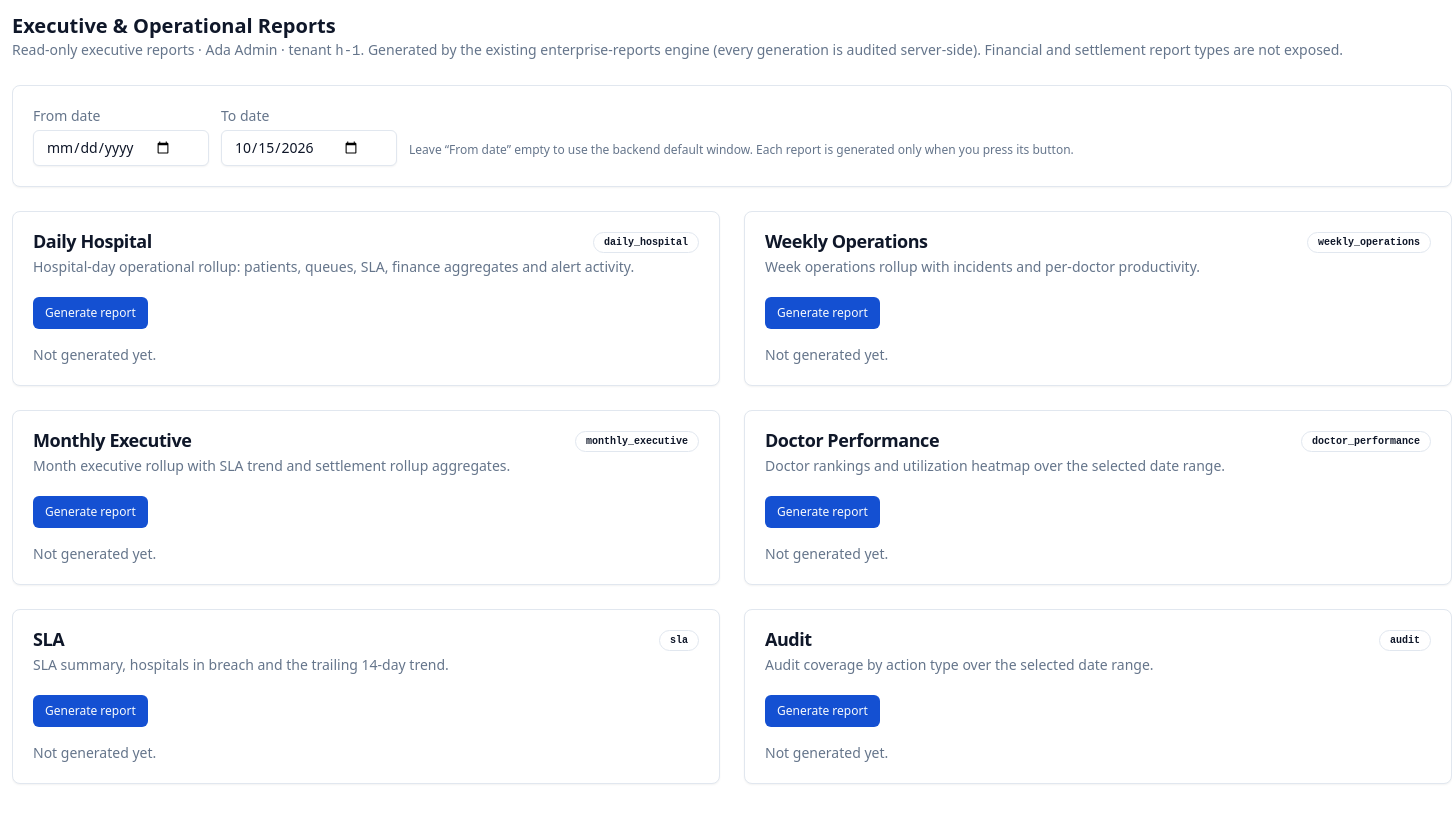
Test: AdminReports viewer › shows an honest error for one report while the page and others stay usable
Click the button "Generate report" below "Daily Hospital". click: (90,313)
box: [33,297,148,329]
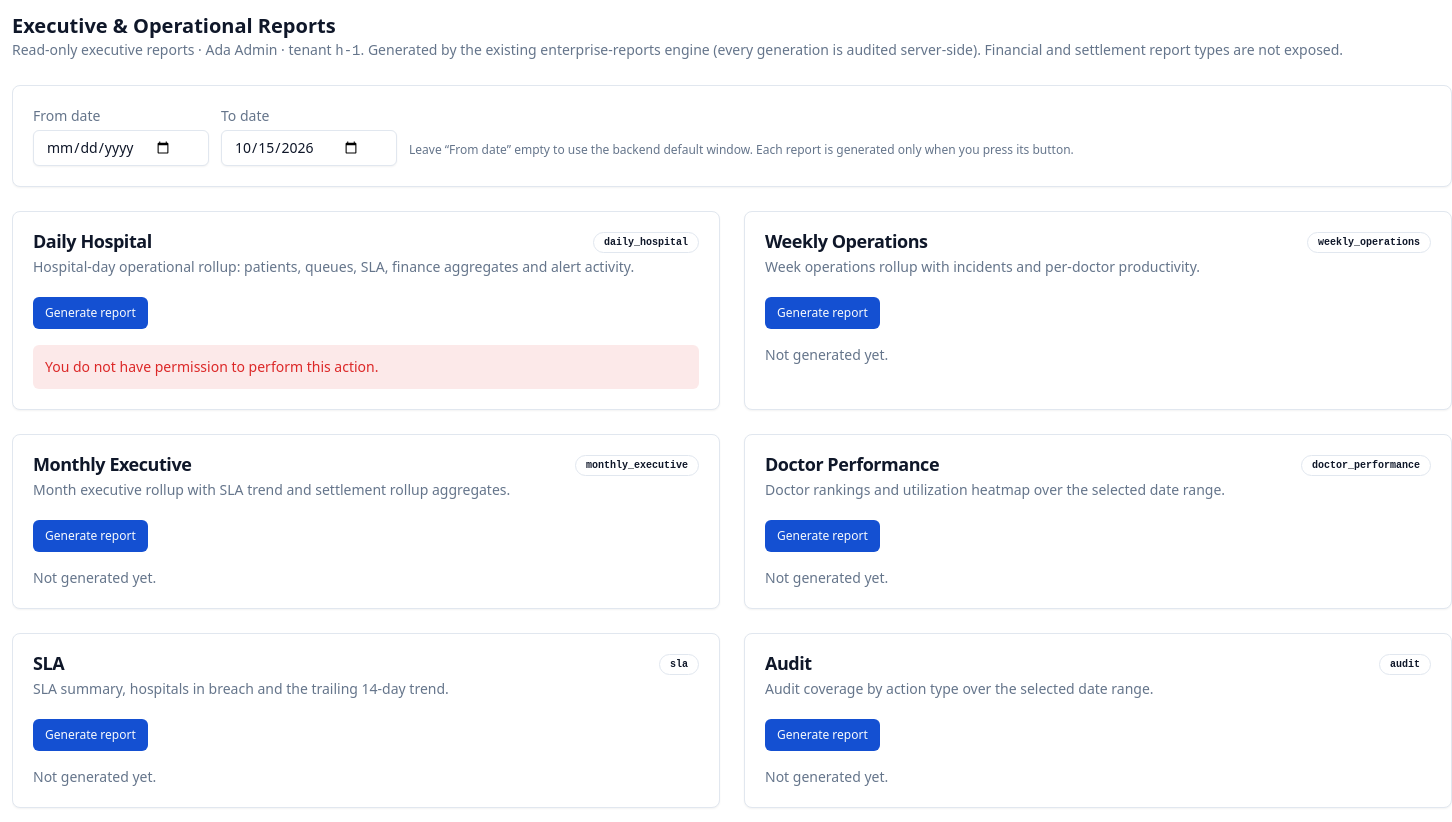
expect the number of buttons "Generate report" is 6: met, box [33,297,148,329]; [765,297,880,329]; [33,520,148,552]; [765,520,880,552]; [33,719,148,751]; [765,719,880,751]
expect the text "You do not have permission to perform this action." is shown: met, box [33,345,699,389]
